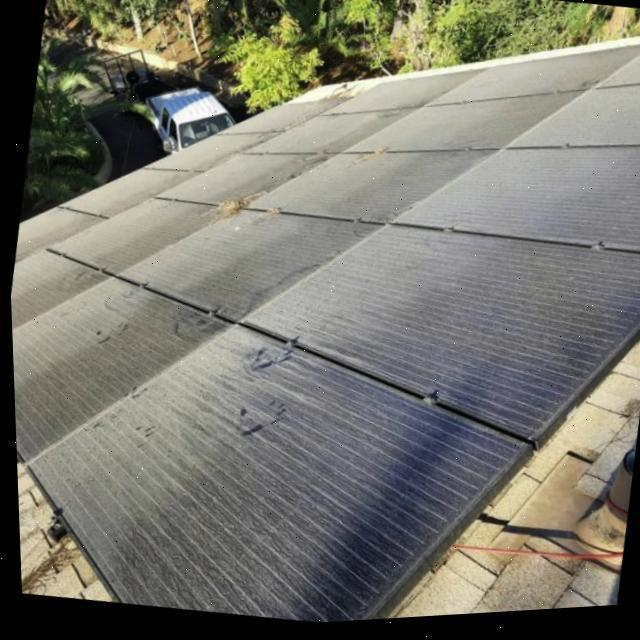Anomaly Solar Panel: (22, 64, 640, 626), (10, 52, 640, 461), (9, 79, 473, 330)
Surface Contaminant: (22, 60, 640, 626), (10, 51, 638, 460), (9, 75, 472, 334)
